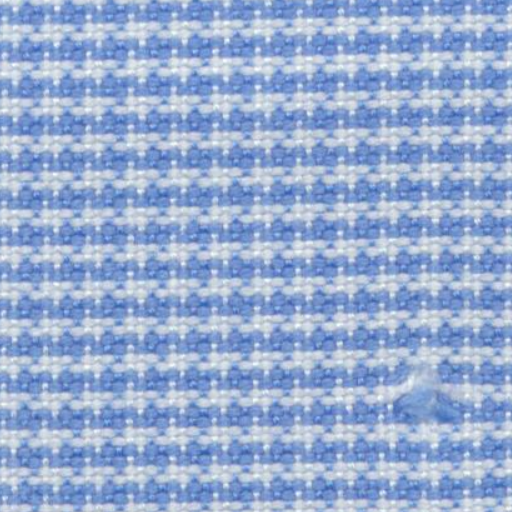MianQiu: (374, 350, 484, 432)
